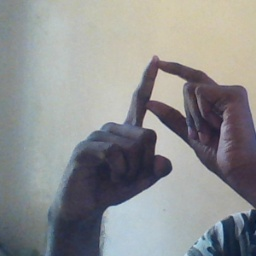D: (105, 50, 238, 170)
